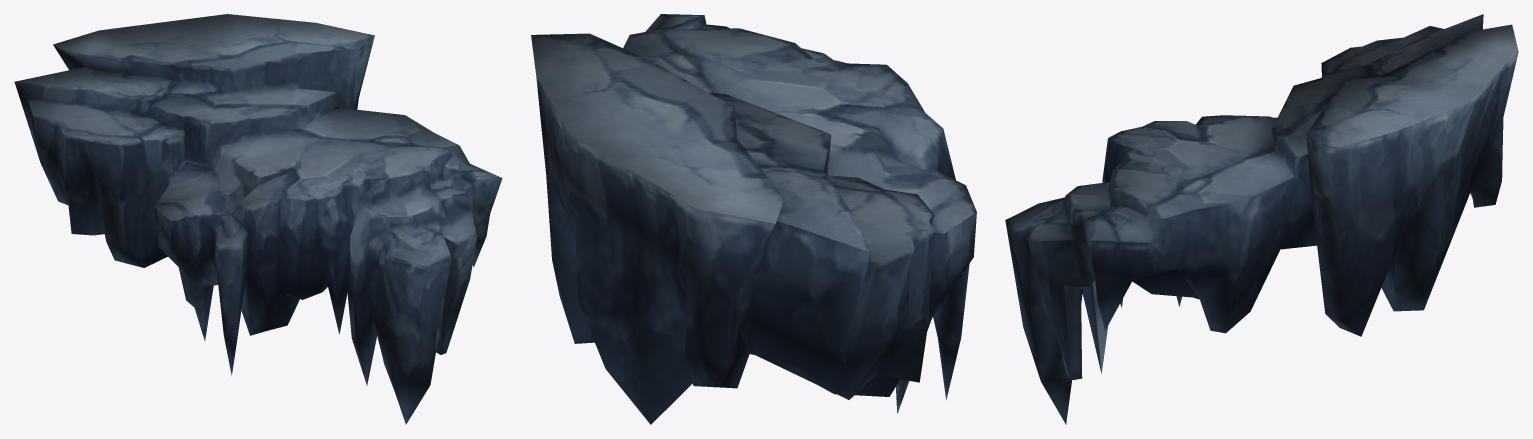
File: Area_01_9.fbx
The picture shows the model from 3 angles, left to right: view 1: azimuth 30°, elevation 25°; view 2: azimuth 150°, elevation 25°; view 3: azimuth 270°, elevation 25°; orthographic projection. The views are drawn at different scales.
Visible parts, largest first — view 1: Area_01_9; view 2: Area_01_9; view 3: Area_01_9.
Part boxes in pixels (x1=…): Area_01_9: x1=14, y1=14, x2=502, y2=424; Area_01_9: x1=531, y1=14, x2=976, y2=424; Area_01_9: x1=1005, y1=14, x2=1518, y2=424.
Bounding box in the file's own units: 1677 × 1423 × 2052.
